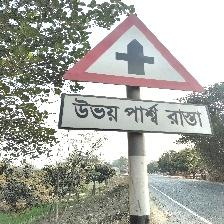Crossroad: (50, 10, 222, 137)
